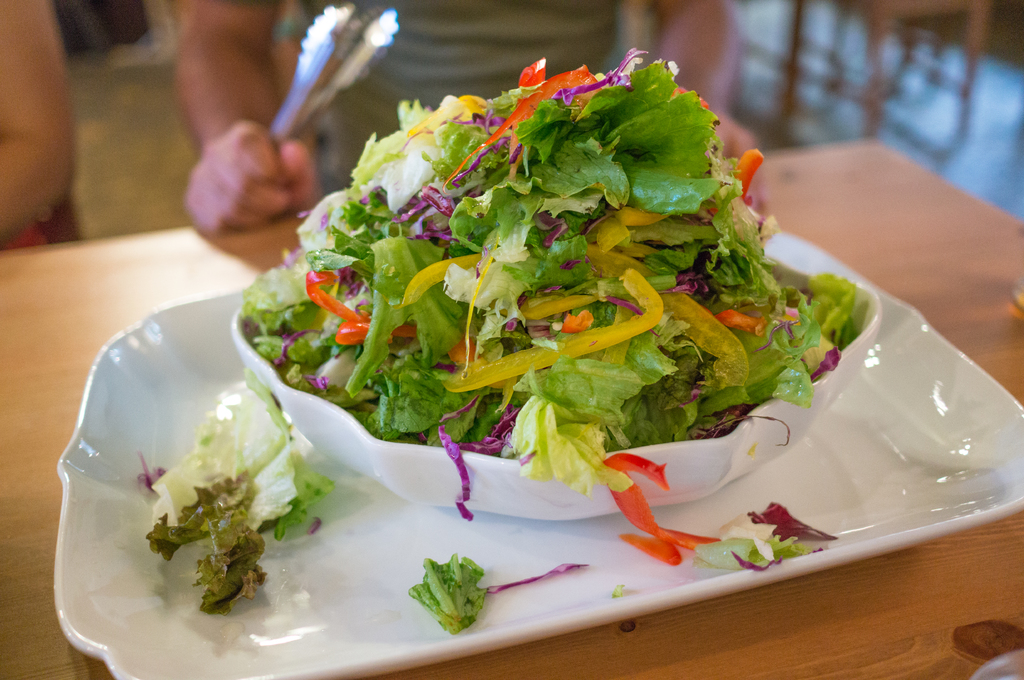salad: (202, 61, 874, 544)
